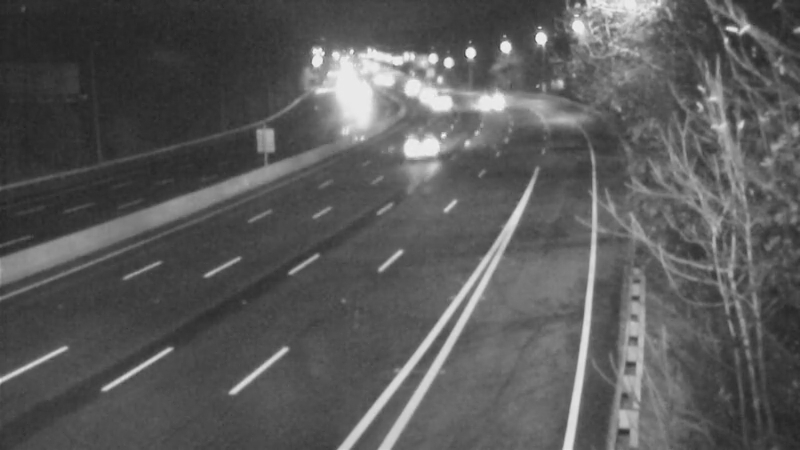vehicle: (381, 111, 461, 191), (386, 66, 436, 116), (400, 72, 450, 122), (410, 75, 460, 125), (461, 78, 511, 128), (331, 77, 381, 127)
